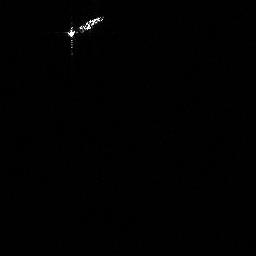ship: (63, 12, 106, 55)
